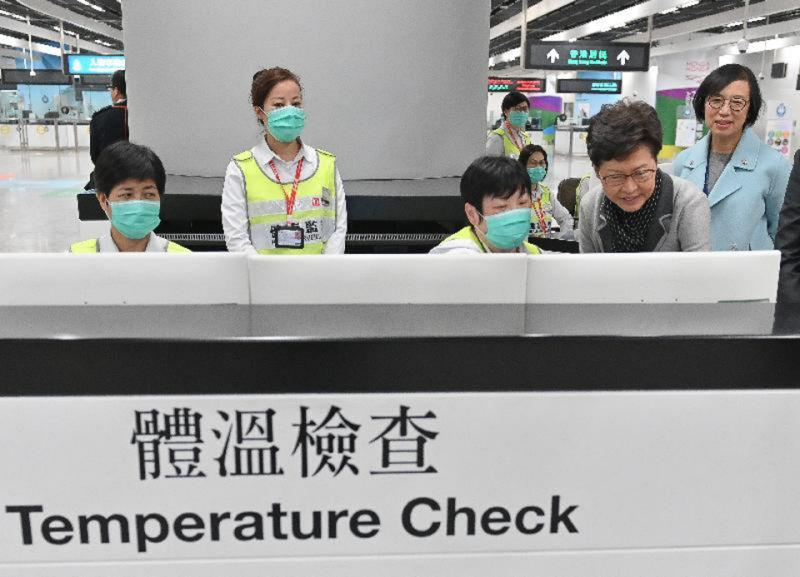mask: (482, 186, 534, 248), (106, 183, 162, 239), (263, 93, 305, 141), (507, 100, 530, 127), (525, 156, 548, 183)
none: (601, 161, 658, 213), (701, 88, 751, 133)
